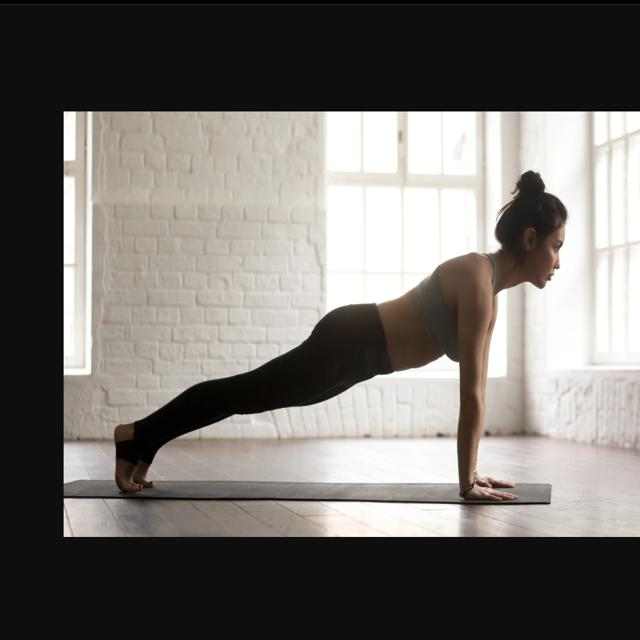Plank_Pose: (105, 171, 573, 504)
